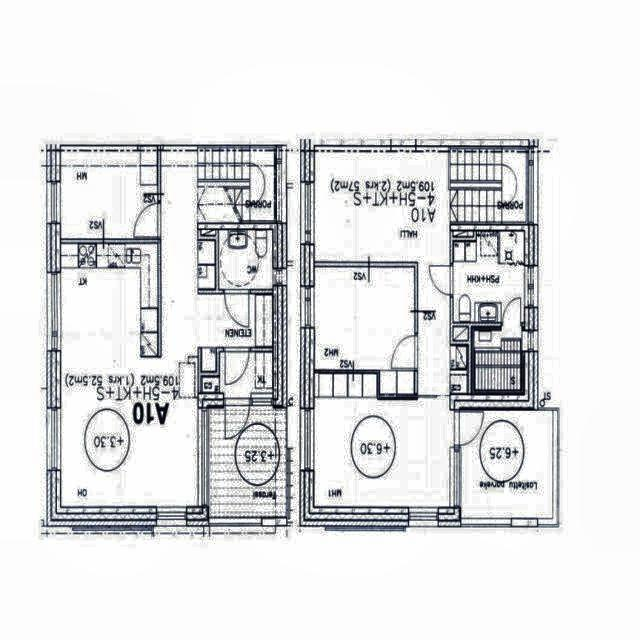room: (315, 268, 414, 394), (60, 150, 158, 239), (453, 231, 524, 322), (218, 230, 273, 290), (202, 353, 273, 392)
